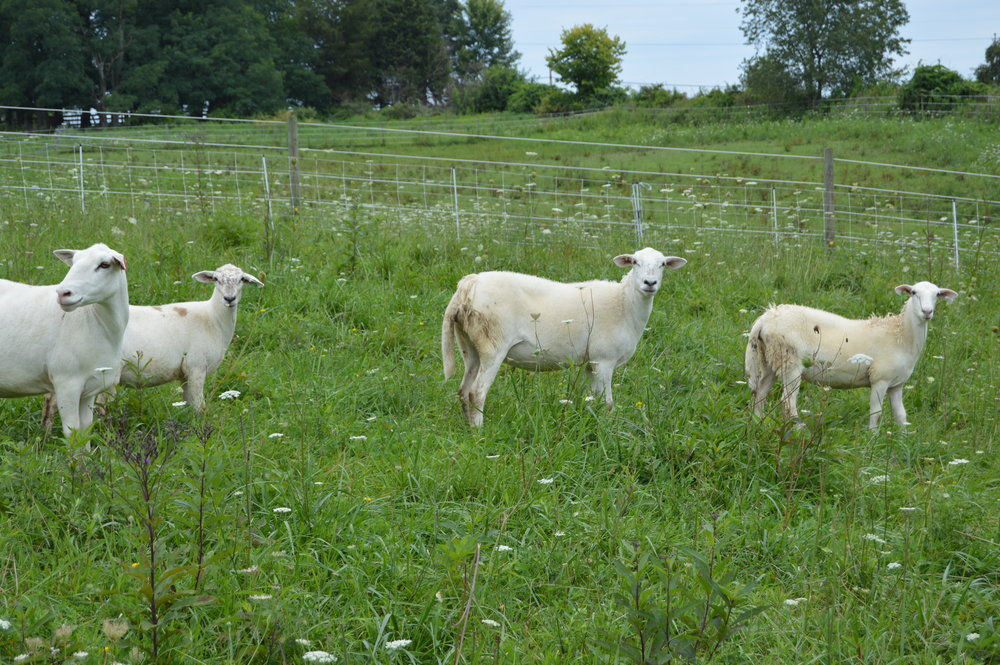sheep: (747, 269, 972, 457), (436, 251, 647, 436), (1, 244, 133, 452), (123, 265, 266, 419)
